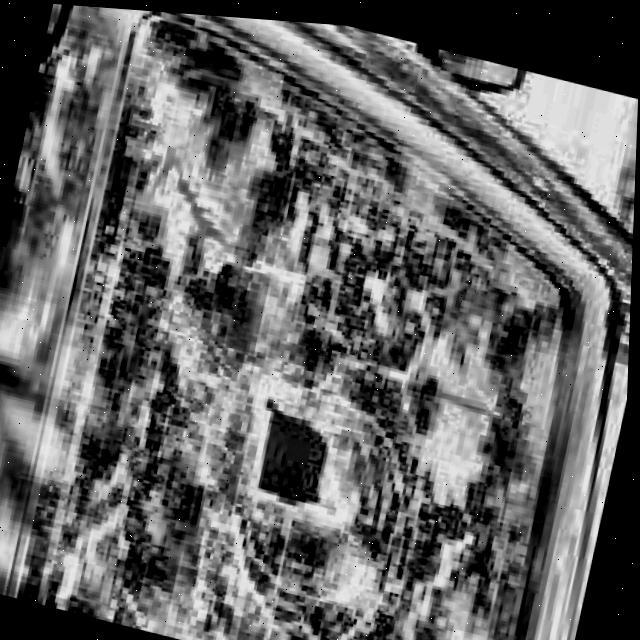glass_shatter: (227, 392, 350, 527)
